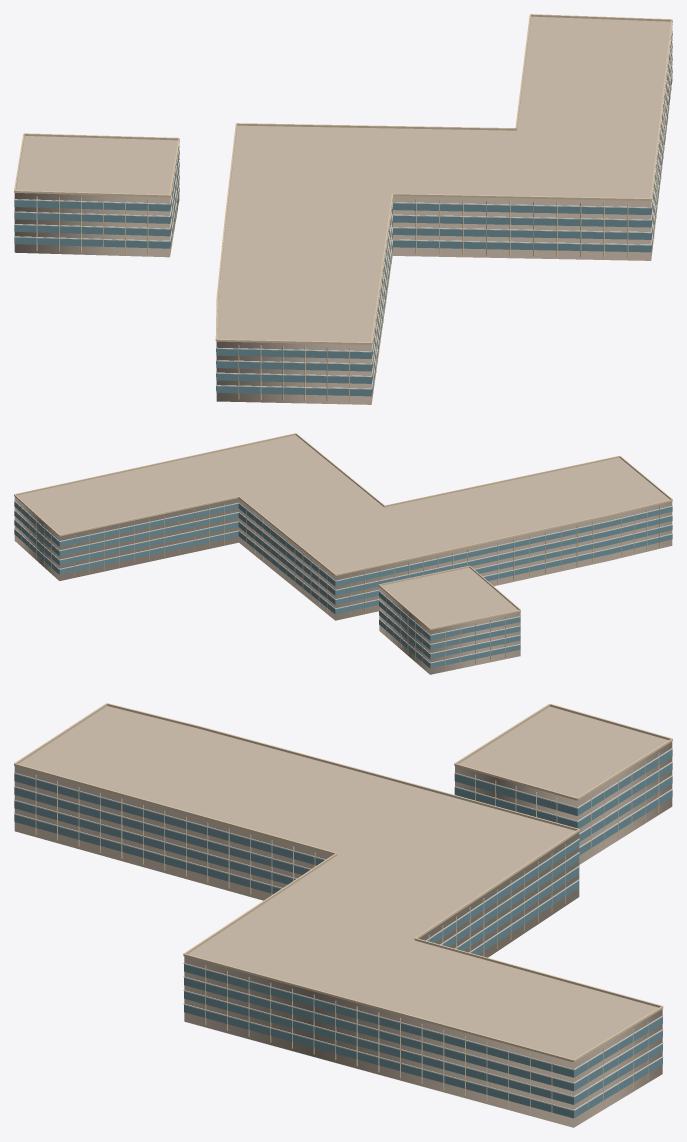
The model's file is dlf-avenue.glb.
3 renders of one model, top to bottom at view 1: azimuth 30°, elevation 25°; view 2: azimuth 150°, elevation 25°; view 3: azimuth 270°, elevation 25°, orthographic. The views are drawn at different scales.
Parts seen in each view (by area): view 1: NCR_dlf-avenue; view 2: NCR_dlf-avenue; view 3: NCR_dlf-avenue.
Part boxes in pixels (bbox=[...]): NCR_dlf-avenue: bbox=[14, 14, 672, 404]; NCR_dlf-avenue: bbox=[14, 433, 672, 674]; NCR_dlf-avenue: bbox=[14, 703, 672, 1127].
Bounding box in the file's own units: 226 × 20 × 176.
